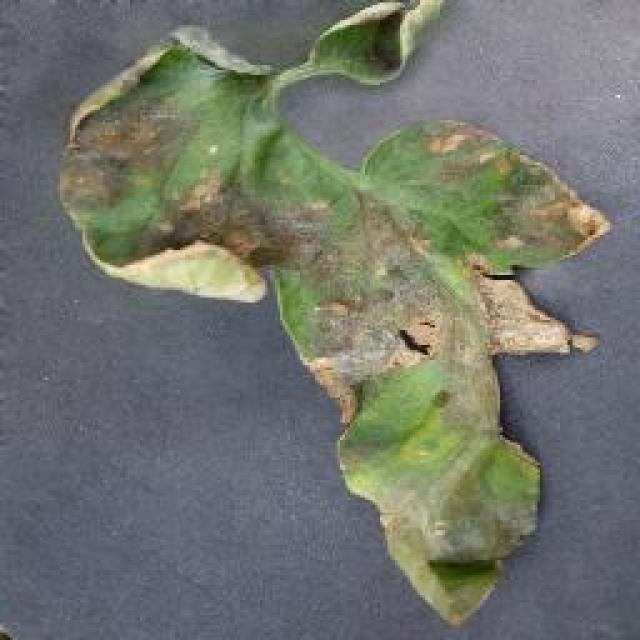Tomato___Late_blight: (55, 0, 610, 628)
